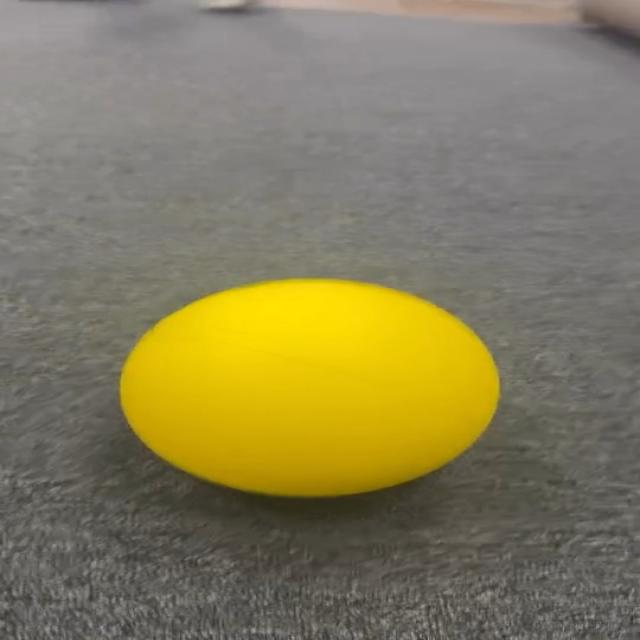Fuels: (121, 278, 497, 494)
